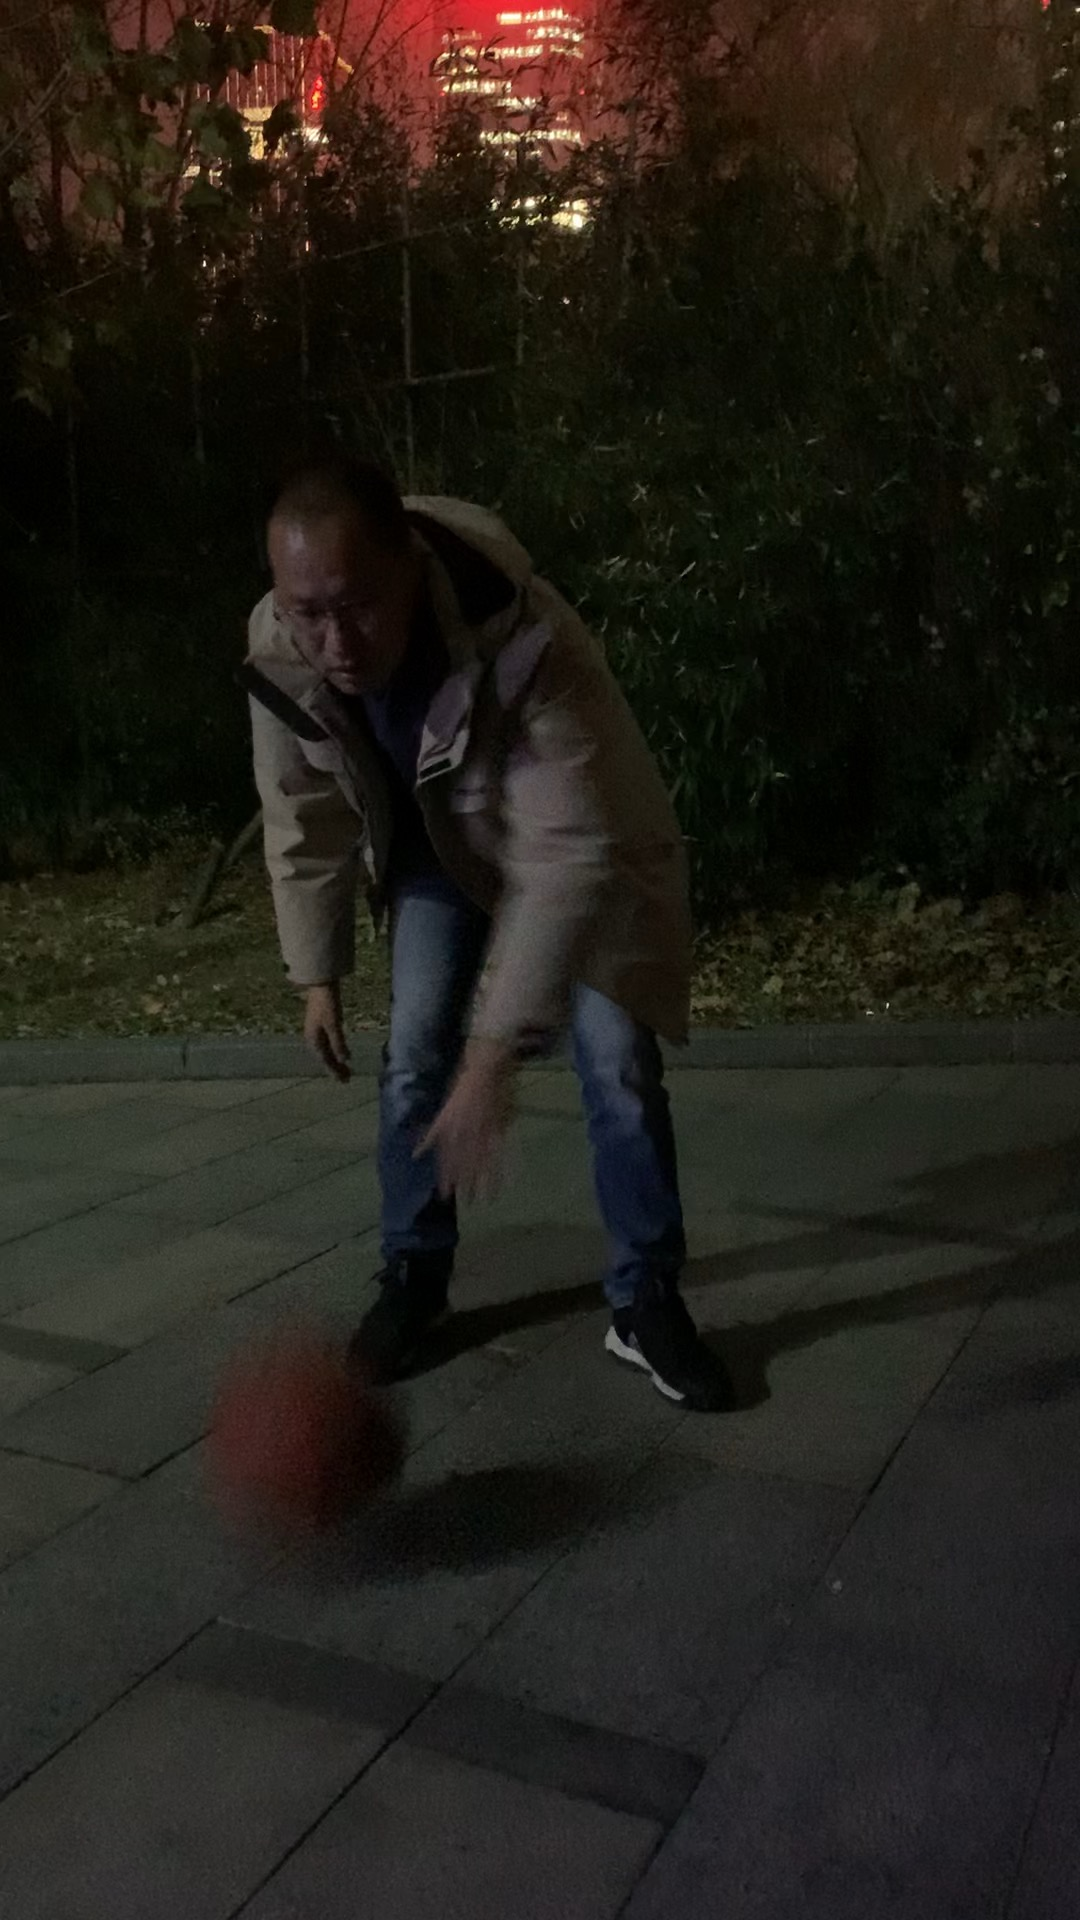ball: (214, 1331, 415, 1535)
